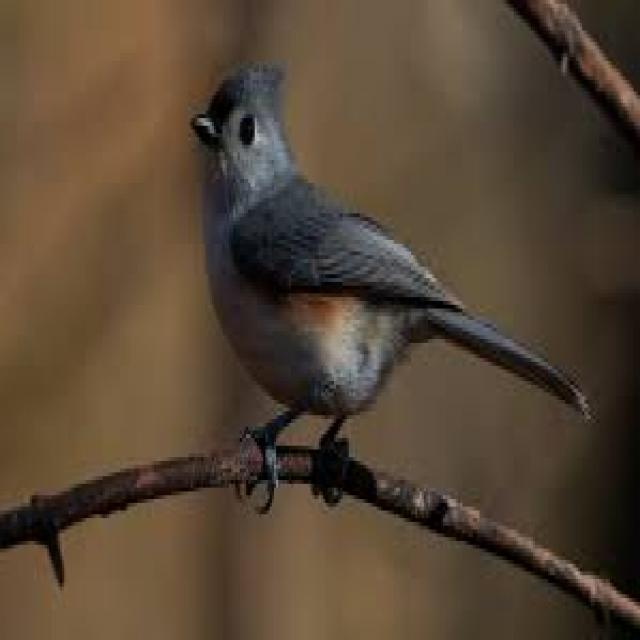bird: (184, 44, 565, 494)
